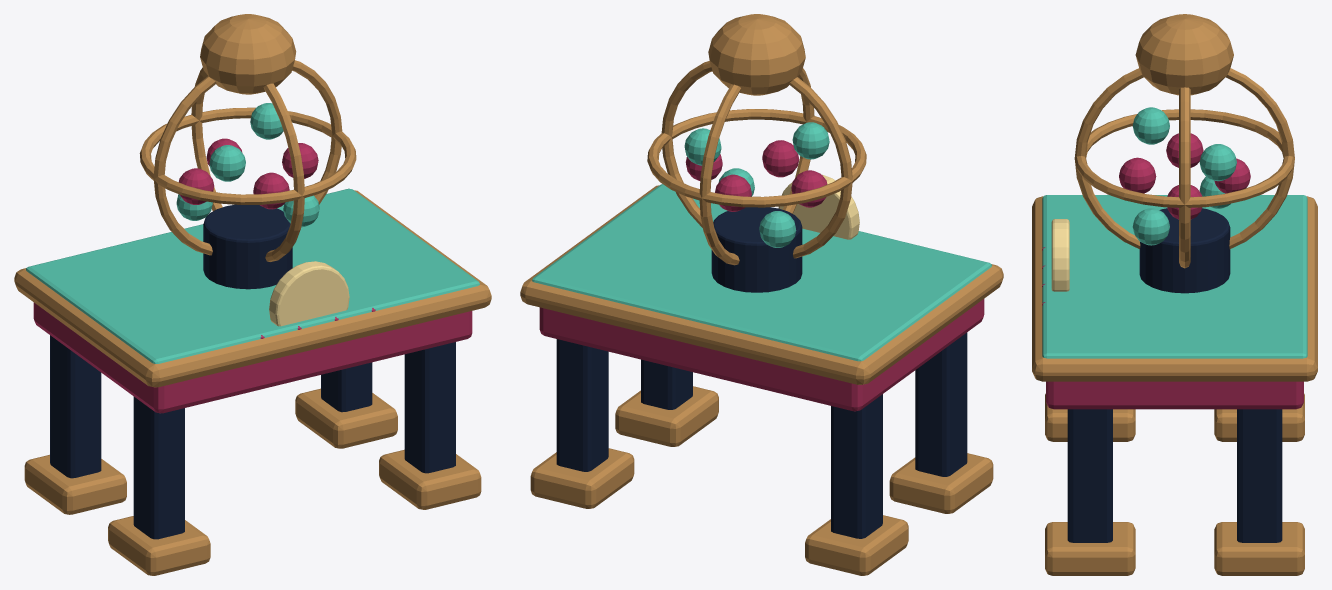
File: Bingo.fbx
3 views of the same model, side by side, from view 1: azimuth 30°, elevation 25°; view 2: azimuth 150°, elevation 25°; view 3: azimuth 270°, elevation 25° (orthographic).
Visible parts, largest first — view 1: Bingo.Mesh, Bingo.Globe.Mesh, Bingo.BellShell; view 2: Bingo.Mesh, Bingo.Globe.Mesh, Bingo.BellShell; view 3: Bingo.Mesh, Bingo.Globe.Mesh, Bingo.BellShell.
Part boxes in pixels (x1,y1,x2,y2): Bingo.Mesh: (14, 188, 491, 575); Bingo.Globe.Mesh: (139, 60, 356, 261); Bingo.BellShell: (200, 14, 296, 94); Bingo.Mesh: (520, 174, 1003, 575); Bingo.Globe.Mesh: (647, 61, 866, 265); Bingo.BellShell: (708, 14, 805, 95); Bingo.Mesh: (1032, 195, 1317, 575); Bingo.Globe.Mesh: (1074, 68, 1294, 268); Bingo.BellShell: (1135, 14, 1233, 95).
Size of the model in its own units: 205 by 267 by 145.
